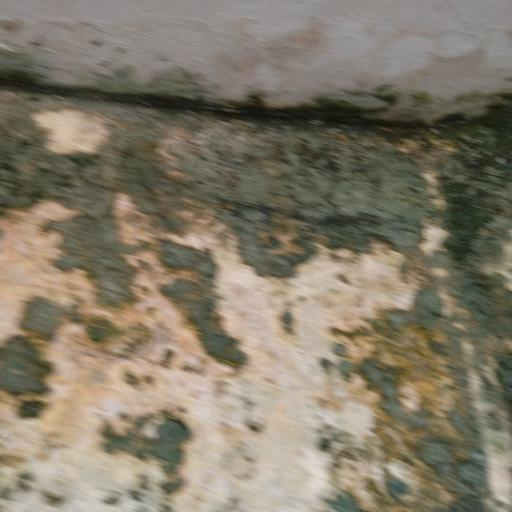algae: (1, 10, 512, 512)
